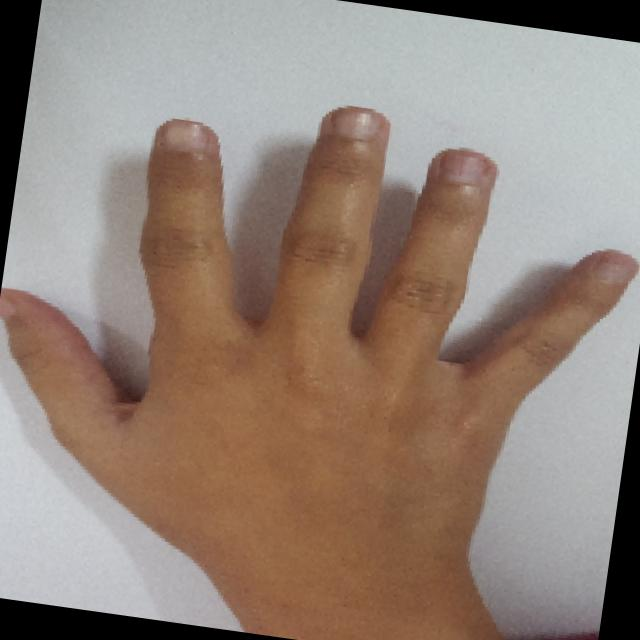Nail: (435, 148, 495, 190), (163, 118, 215, 152), (334, 106, 383, 139), (602, 251, 638, 287), (0, 293, 15, 319)
